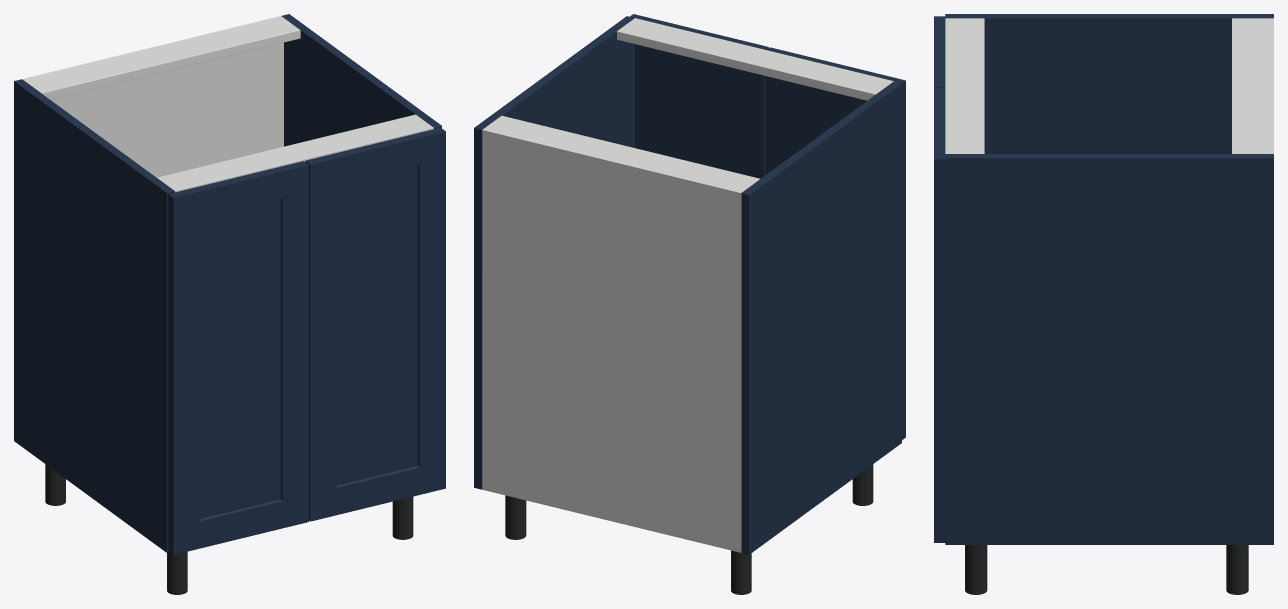
The model's file is oppein-pb-bss-b24fh.glb.
3 views of the same model, side by side, from view 1: azimuth 30°, elevation 25°; view 2: azimuth 150°, elevation 25°; view 3: azimuth 270°, elevation 25° (orthographic). The views are drawn at different scales.
Parts seen in each view (by area): view 1: Cabinet side, Door, Door.001, Cabinet back, Cabinet side.001, Top support rail, Top support rail.001, Adjustable foot.003, Adjustable foot.001, Adjustable foot; view 2: Cabinet back, Cabinet side, Door.001, Cabinet side.001, Door, Top support rail.001, Top support rail, Cabinet bottom, Adjustable foot.002, Adjustable foot, Adjustable foot.001; view 3: Cabinet side.001, Cabinet side, Door.001, Top support rail.001, Top support rail, Adjustable foot.002, Adjustable foot.003, Cabinet back, Door.
Boxes of the visible parts, bbox=[...] form: Cabinet side: bbox=[14, 79, 174, 552]; Door: bbox=[168, 161, 308, 554]; Door.001: bbox=[305, 127, 445, 521]; Cabinet back: bbox=[22, 16, 283, 177]; Cabinet side.001: bbox=[281, 14, 441, 146]; Top support rail: bbox=[24, 18, 300, 99]; Top support rail.001: bbox=[157, 114, 433, 192]; Adjustable foot.003: bbox=[392, 496, 413, 539]; Adjustable foot.001: bbox=[167, 551, 187, 594]; Adjustable foot: bbox=[45, 464, 65, 505]; Cabinet back: bbox=[482, 127, 743, 552]; Cabinet side: bbox=[741, 81, 901, 554]; Door.001: bbox=[630, 14, 768, 178]; Cabinet side.001: bbox=[474, 16, 634, 489]; Door: bbox=[765, 47, 905, 439]; Top support rail.001: bbox=[617, 18, 893, 100]; Top support rail: bbox=[486, 115, 759, 191]; Cabinet bottom: bbox=[482, 481, 740, 552]; Adjustable foot.002: bbox=[505, 495, 526, 539]; Adjustable foot: bbox=[731, 550, 751, 594]; Adjustable foot.001: bbox=[852, 464, 873, 505]; Cabinet side.001: bbox=[945, 154, 1273, 544]; Cabinet side: bbox=[945, 14, 1273, 153]; Door.001: bbox=[934, 88, 945, 542]; Top support rail.001: bbox=[945, 18, 984, 153]; Top support rail: bbox=[1232, 18, 1267, 153]; Adjustable foot.002: bbox=[1226, 545, 1248, 594]; Adjustable foot.003: bbox=[965, 545, 987, 594]; Cabinet back: bbox=[1267, 18, 1273, 153]; Door: bbox=[934, 16, 945, 87].
Size of the model in its own units: 0.6096 by 0.8763 by 0.6064.
